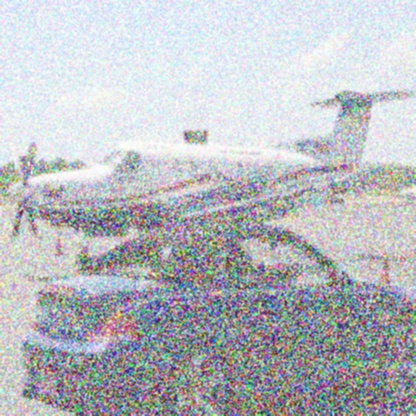Vehicle: (30, 211, 415, 410)
